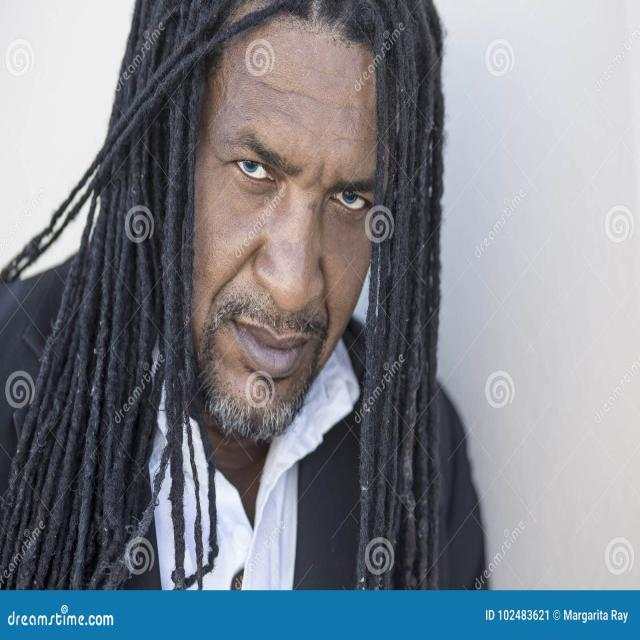sem_oculos: (175, 105, 414, 253)
